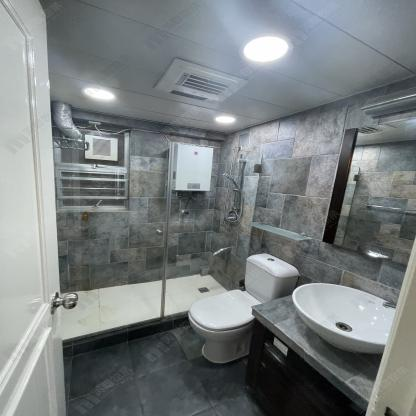Exhaust Fan: (85, 135, 118, 161)
Thermo Ventilator: (154, 58, 250, 104)
Toilet: (187, 253, 299, 363)
Toilet Sink: (292, 284, 397, 353)
Water Cubicle: (51, 128, 263, 357)
Water Heater: (171, 144, 214, 190)
